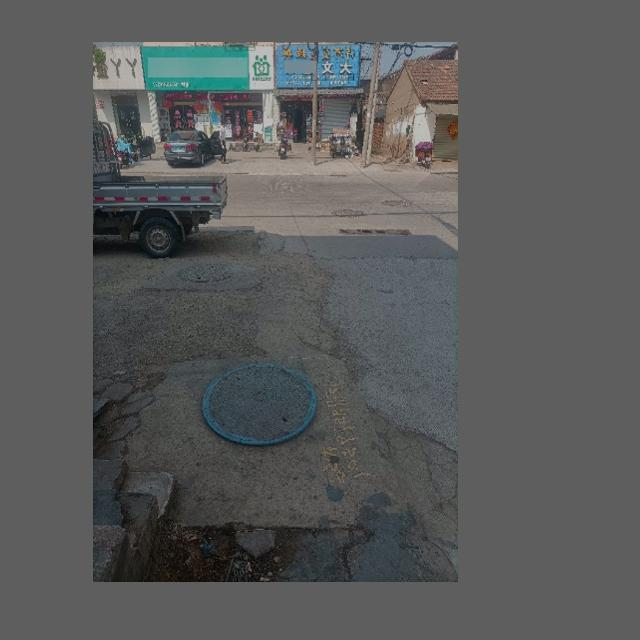good: (201, 362, 317, 444)
